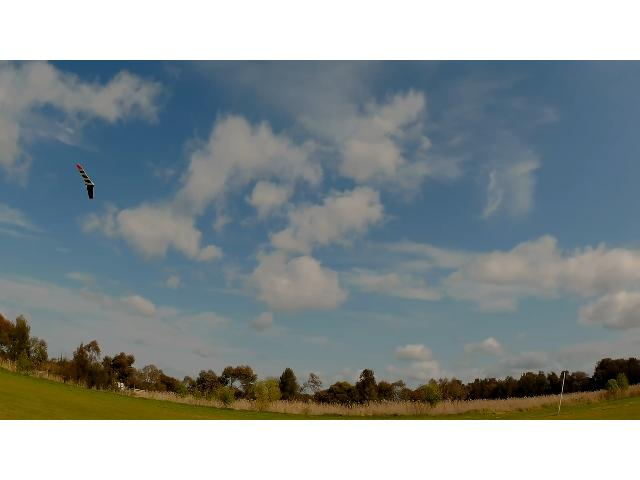Anti-Drone: (77, 164, 95, 200)
